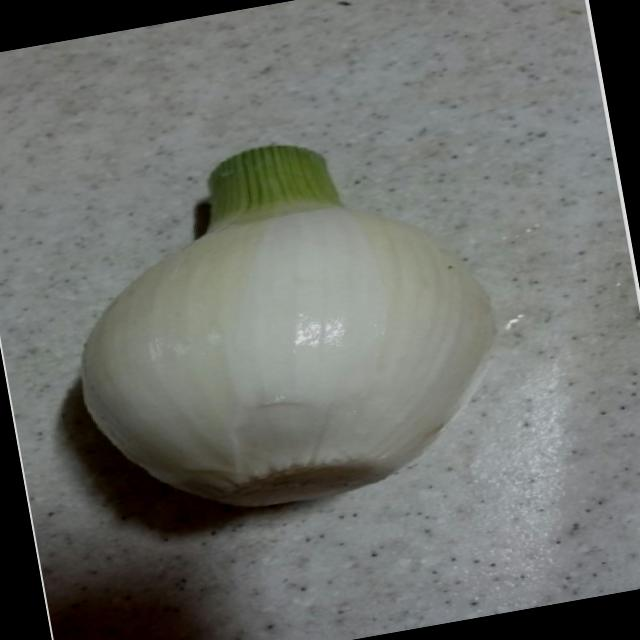onion: (0, 110, 593, 552)
